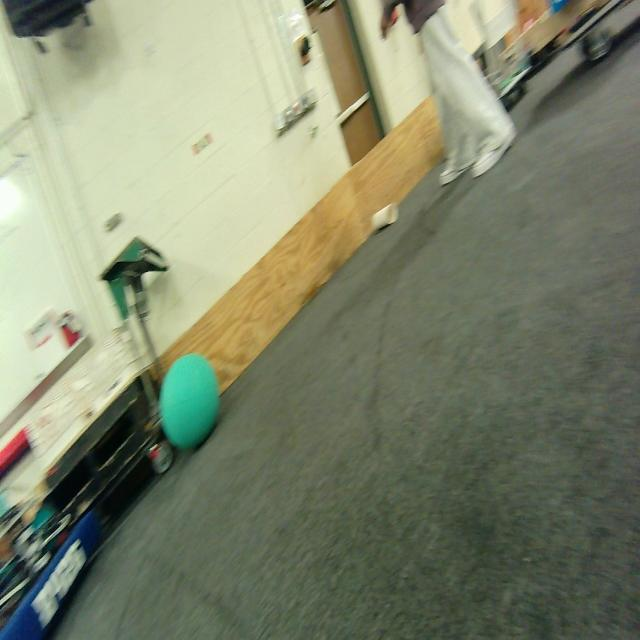algae: (155, 347, 225, 454)
coral: (367, 200, 402, 237)
